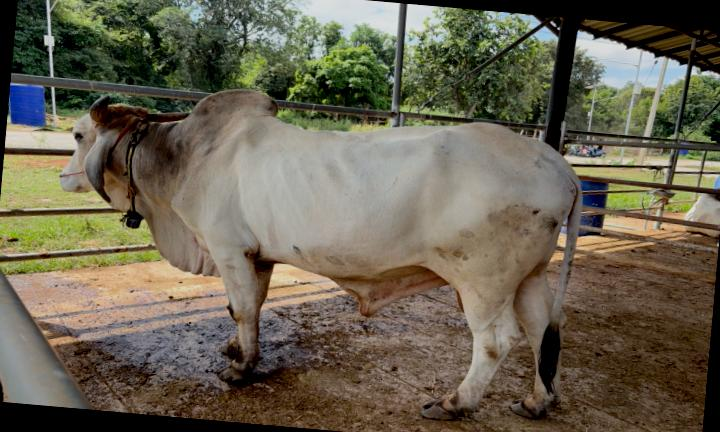Brahman: (61, 89, 582, 419)
